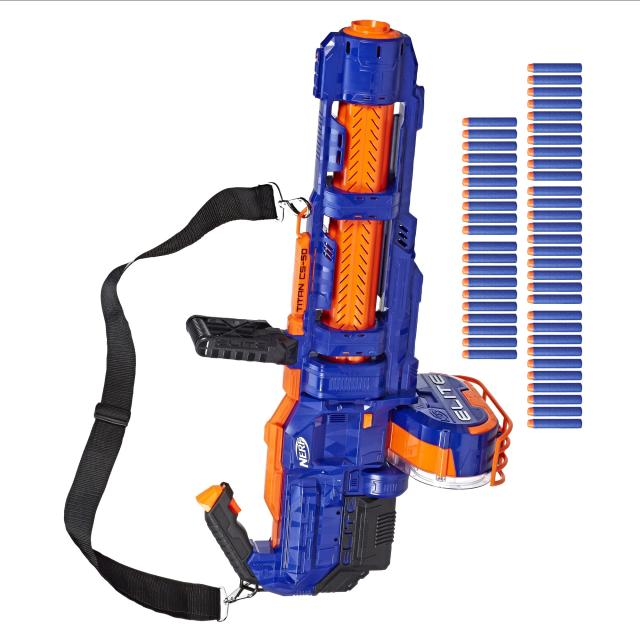Nerf gun: (196, 16, 514, 601)
